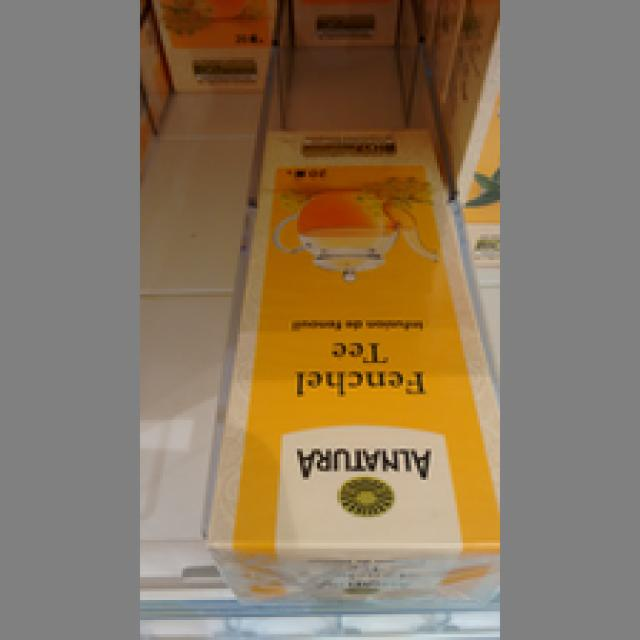groceries: (200, 123, 494, 608)
